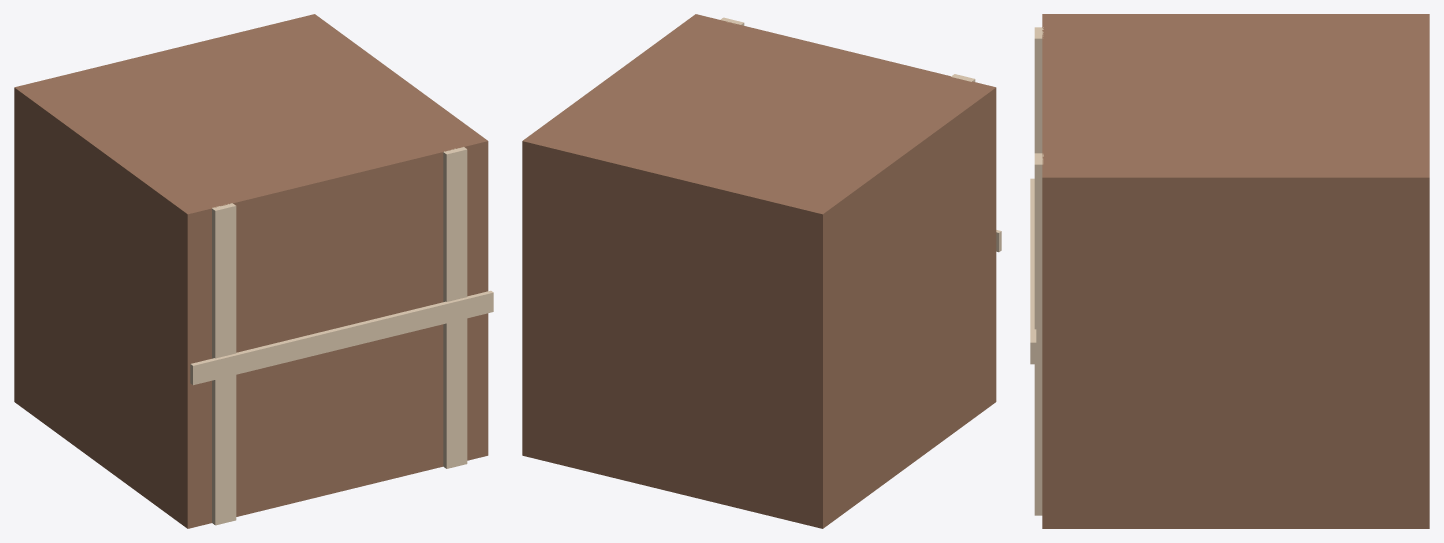
The model's file is crate.obj.
3 renders of one model, left to right at view 1: azimuth 30°, elevation 25°; view 2: azimuth 150°, elevation 25°; view 3: azimuth 270°, elevation 25°, orthographic. The views are drawn at different scales.
Visible parts, largest first — view 1: crate; view 2: crate; view 3: crate.
Part boxes in pixels (x1,y1,x2,y2): crate: [14, 14, 493, 528]; crate: [522, 14, 1001, 528]; crate: [1030, 14, 1429, 528].
Bounding box in the file's own units: 1.3 × 1.3 × 1.34.
